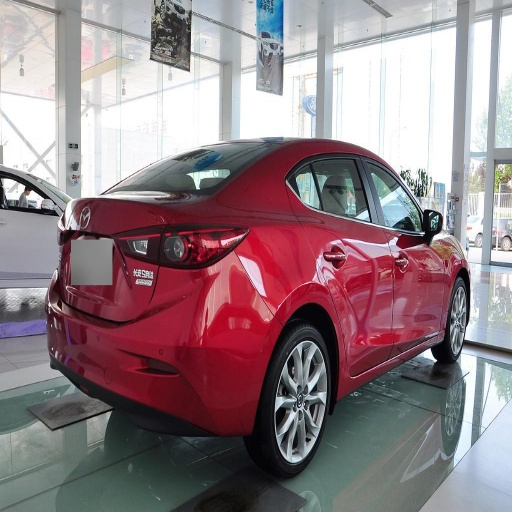_background_: (49, 252, 282, 433)
back_bumper: (121, 142, 269, 195)
back_left_door: (56, 219, 78, 285)
back_left_light: (299, 151, 392, 371)
back_right_door: (184, 228, 248, 271)
front_left_light: (362, 153, 445, 353)
right_mirror: (68, 193, 212, 321)
tailgate: (161, 258, 195, 308)
trunk: (252, 323, 333, 475), (441, 279, 467, 364), (441, 369, 463, 456)
